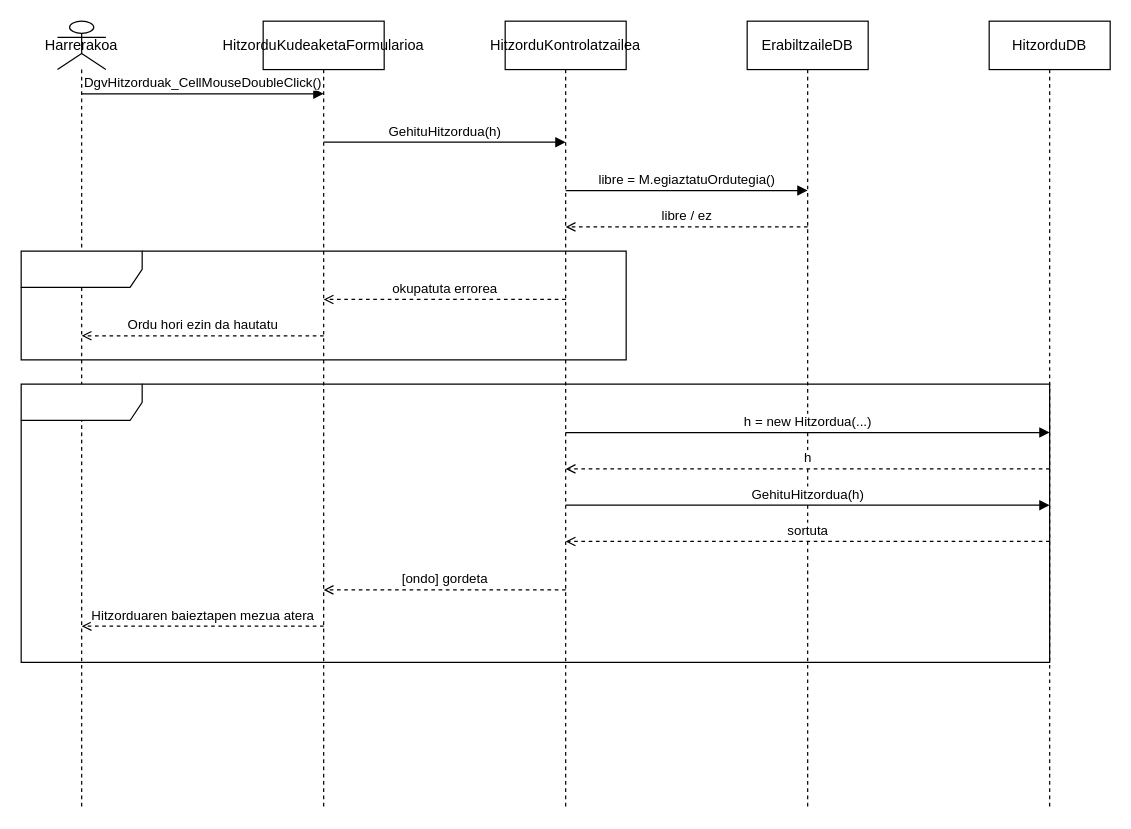
The diagram is 1131 pixels wide and 829 high, and some of its shapes have lost their labels. The box of each missing label's shape, as (x1, y1, x2, y2) in pixels:
alt [libre == bai]: (20, 383, 1050, 662)
alt [libre == ez]: (20, 250, 626, 360)
